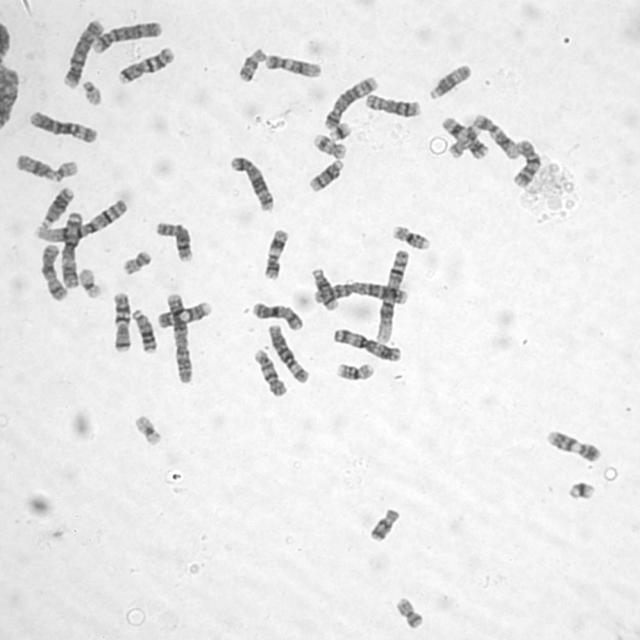A1: (31, 194, 129, 244), (373, 246, 412, 344)
A2: (309, 277, 412, 307), (163, 289, 195, 385)
A3: (330, 324, 403, 364), (59, 206, 85, 288)
B4: (61, 15, 106, 89), (89, 16, 164, 54)
B5: (321, 72, 380, 130), (226, 151, 277, 213)
C10: (250, 344, 289, 398), (510, 135, 544, 189)
C11: (439, 114, 489, 160), (260, 225, 290, 281)
C12: (471, 110, 522, 160), (262, 50, 324, 79)
C6: (264, 319, 310, 385), (26, 106, 100, 144)
C7: (115, 42, 177, 85), (109, 287, 133, 353)
C8: (153, 218, 195, 262), (362, 89, 423, 118)
C9: (543, 426, 604, 463), (155, 297, 214, 329)
D13: (36, 182, 76, 230), (129, 304, 159, 354)
D14: (308, 263, 341, 311), (306, 155, 346, 193)
D15: (426, 60, 472, 100), (13, 150, 58, 182)
E16: (388, 221, 432, 251), (333, 358, 377, 382)
E17: (447, 123, 482, 160), (310, 130, 348, 159)
E18: (367, 504, 402, 543), (235, 44, 268, 83)
F19: (131, 410, 164, 447), (76, 264, 105, 299)
F20: (392, 593, 426, 630), (119, 246, 154, 276)
G21: (564, 476, 598, 501), (327, 118, 353, 142)
G22: (51, 156, 80, 182), (79, 76, 104, 106)
X: (37, 240, 69, 301), (249, 298, 306, 331)
